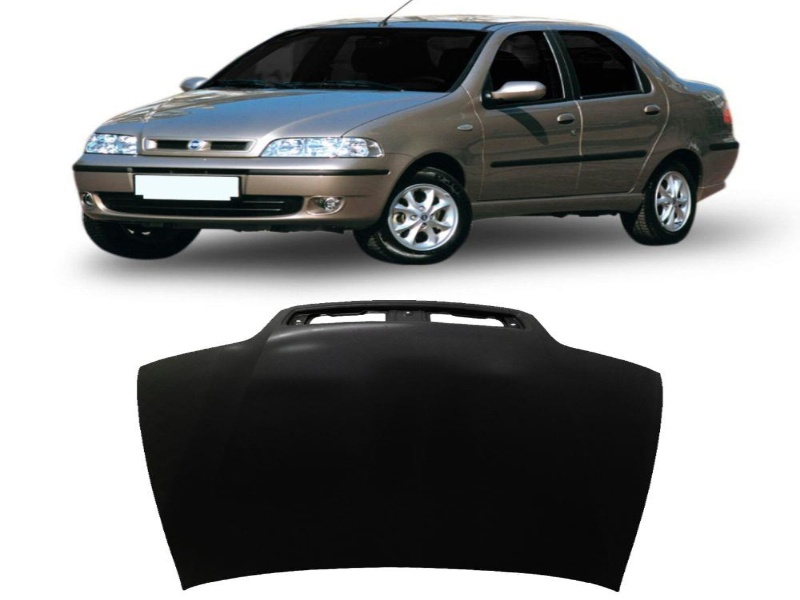ruim: (638, 240, 780, 427)
